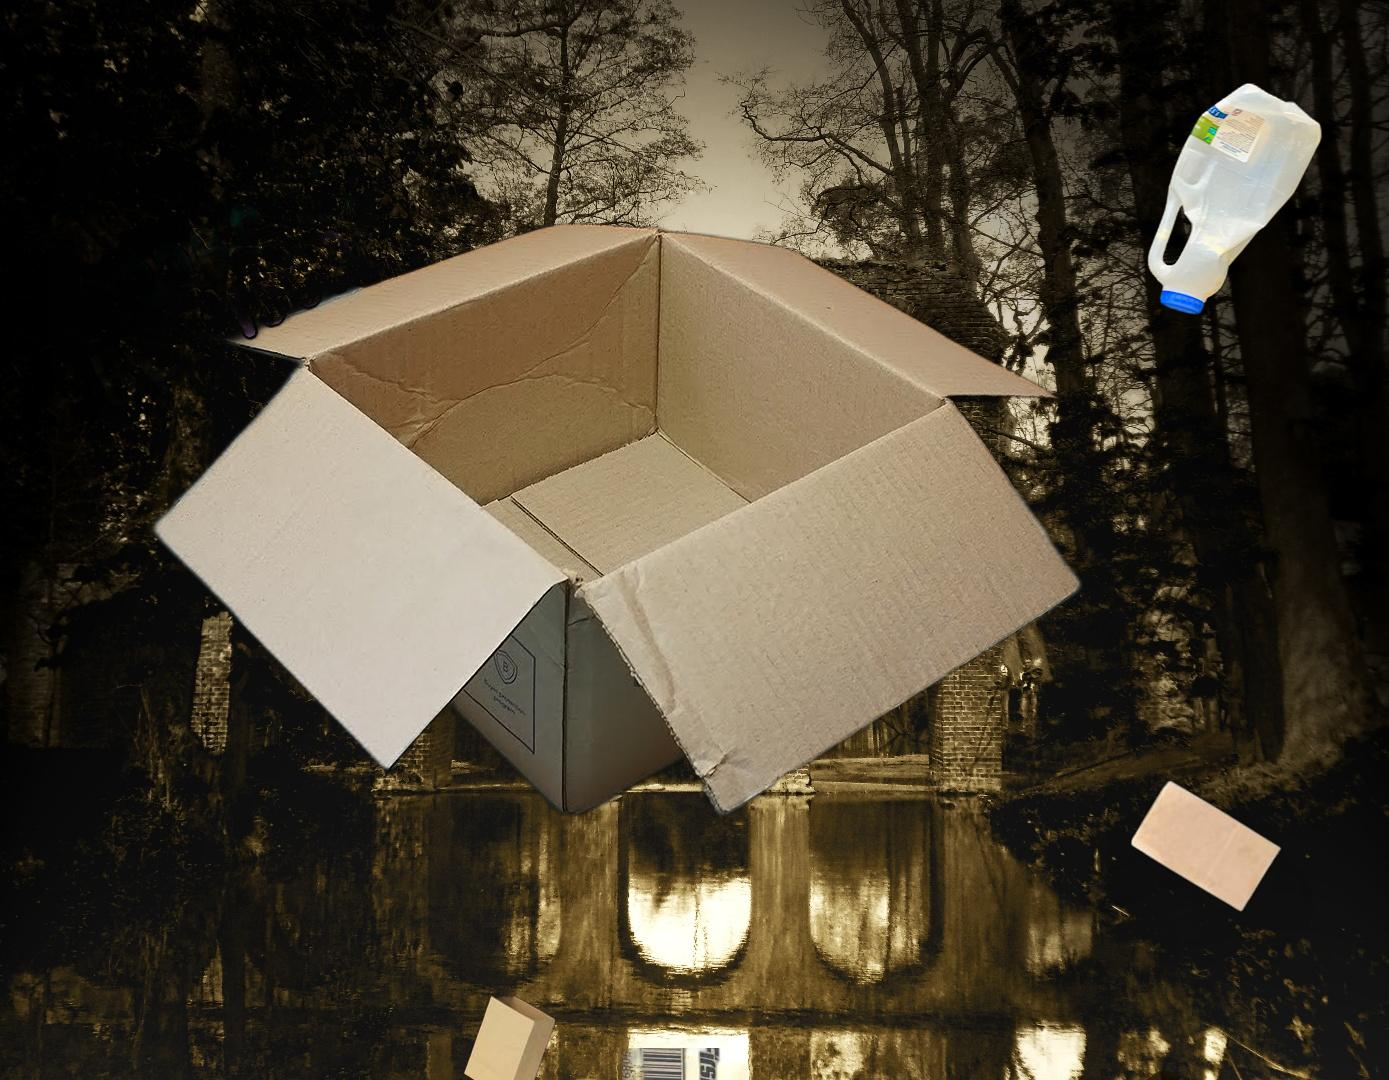paper-bag: (1021, 763, 1321, 1034), (295, 818, 559, 1080), (1123, 1068, 1368, 1080)
plastic-bottles: (1142, 76, 1327, 320)
trashbox-cardboard: (10, 136, 1094, 823), (612, 1048, 743, 1080)
